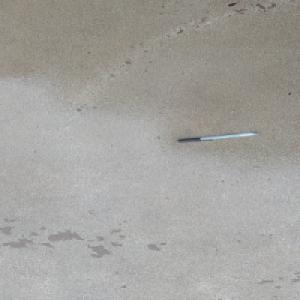Pen: (176, 131, 260, 142)
